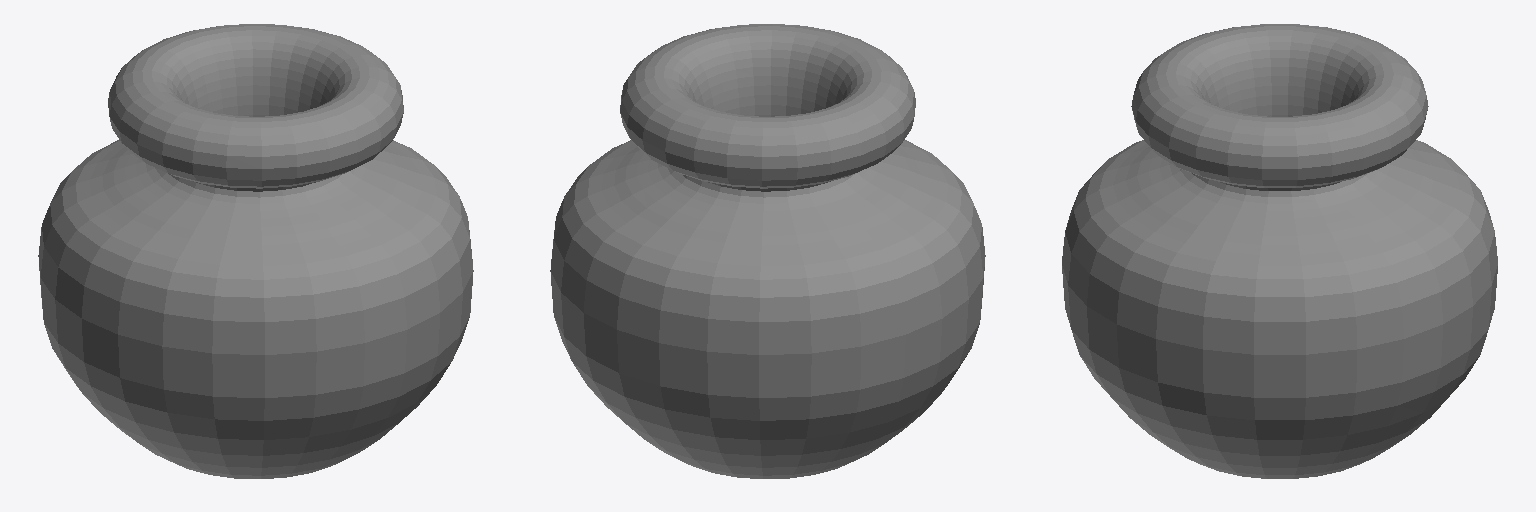
Rendered from pot2.obj.
The picture shows the model from 3 angles: view 1: azimuth 30°, elevation 25°; view 2: azimuth 150°, elevation 25°; view 3: azimuth 270°, elevation 25°; orthographic projection.
Visible parts, largest first — view 1: Line90.000; view 2: Line90.000; view 3: Line90.000.
Part boxes in pixels (x1,y1,x2,y2): Line90.000: (38, 24, 473, 478); Line90.000: (550, 24, 985, 478); Line90.000: (1062, 24, 1497, 478).
Size of the model in its own units: 8.15 by 7.55 by 8.21.